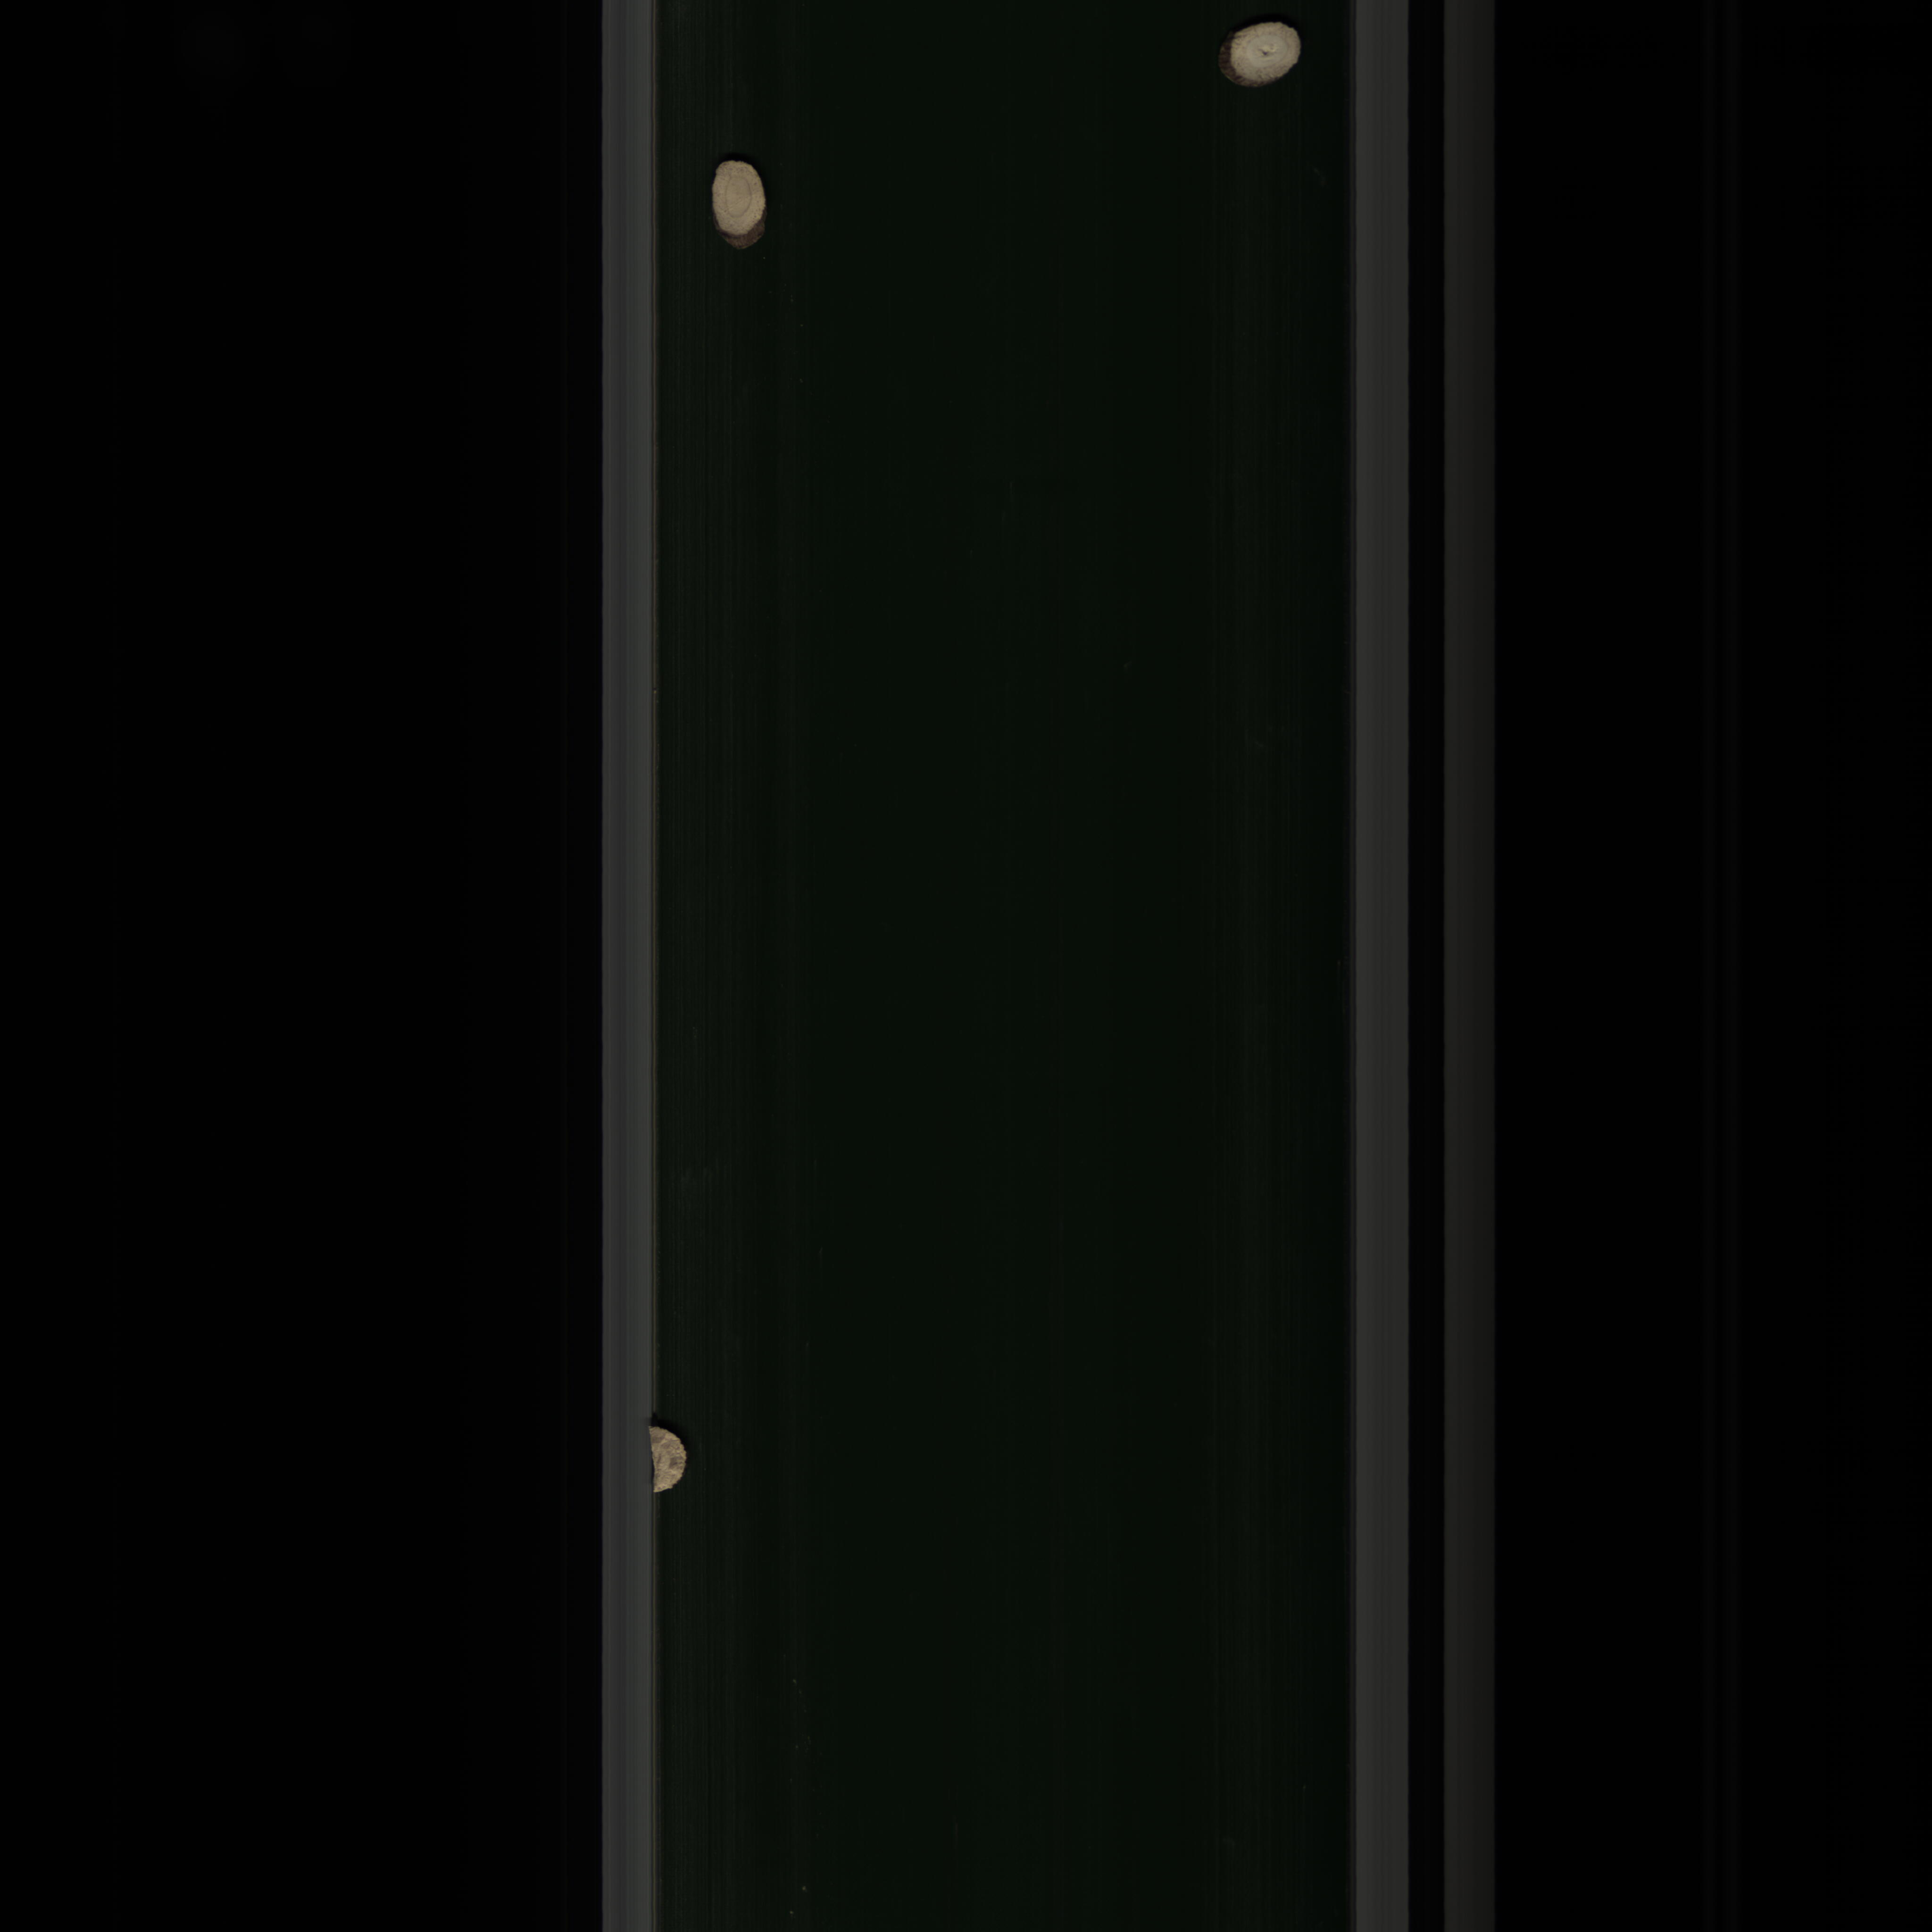debris: (626, 1421, 697, 1497)
